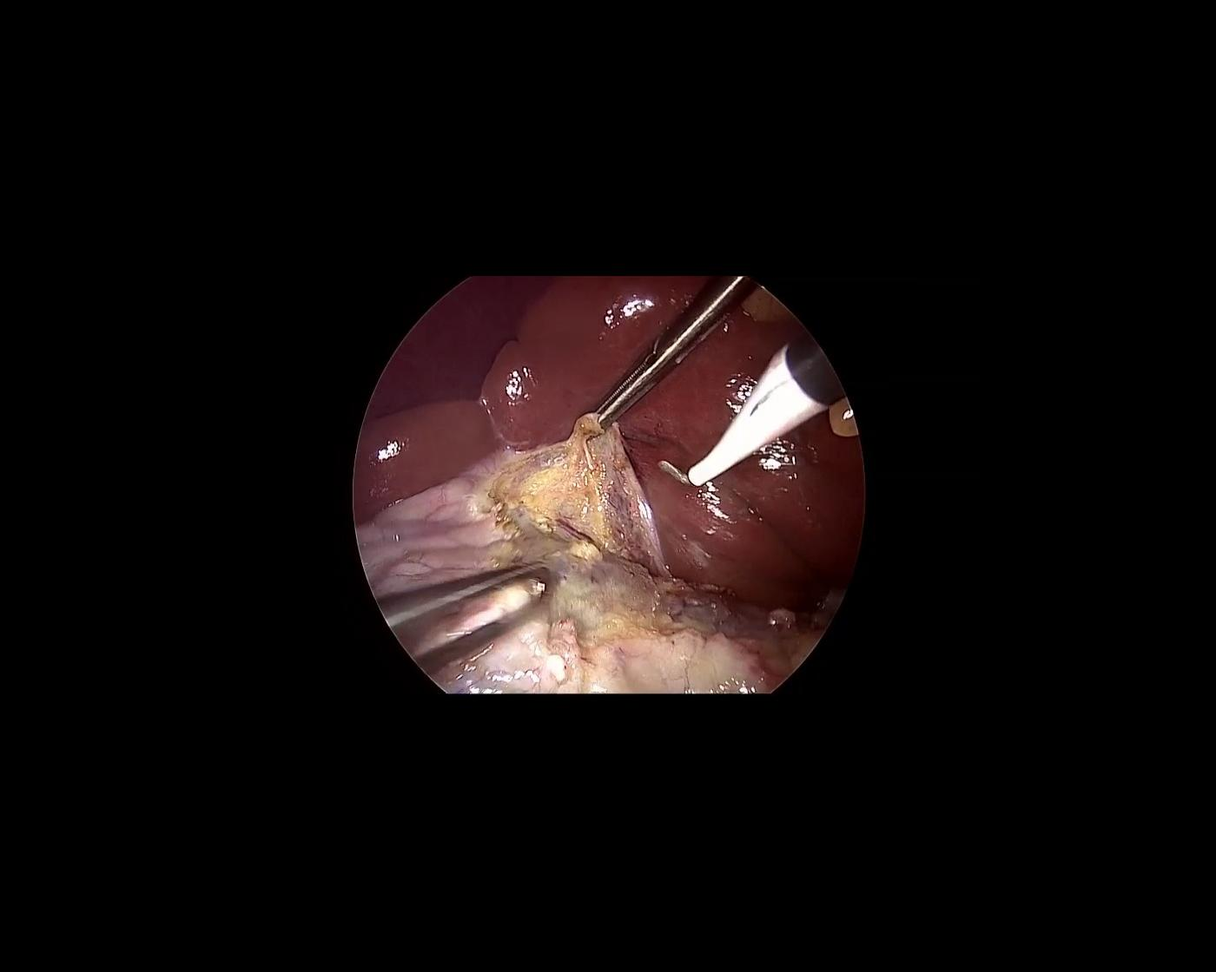Cautery: (639, 335, 848, 502)
Forceps: (573, 258, 764, 441), (373, 517, 568, 684)
Gallbladder: (314, 447, 825, 815)
Liver: (338, 211, 908, 625)
